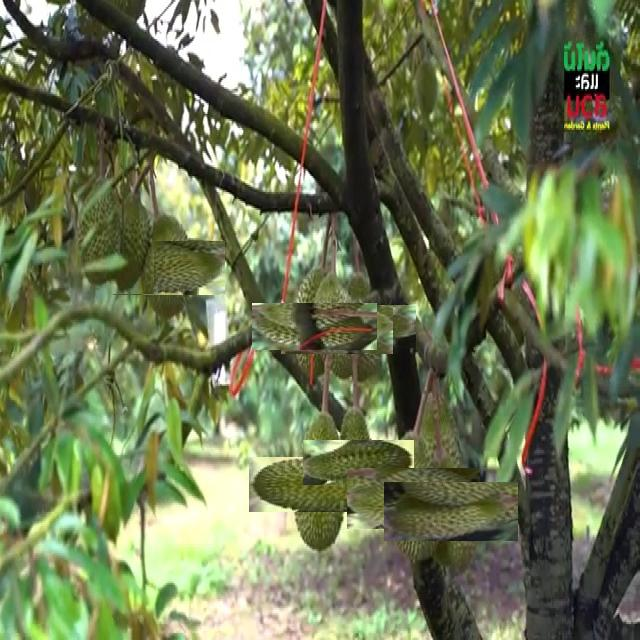durian: (270, 435, 370, 533), (365, 450, 462, 548), (403, 463, 499, 559), (271, 284, 358, 371), (127, 226, 210, 310), (296, 290, 377, 370), (319, 424, 398, 502), (321, 287, 399, 365), (76, 179, 125, 288), (111, 194, 154, 294)
